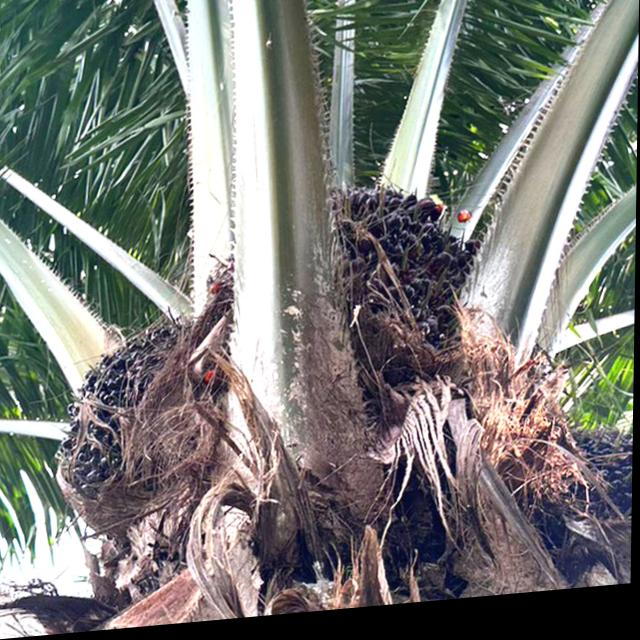ripe: (56, 272, 230, 507), (327, 183, 466, 384)
